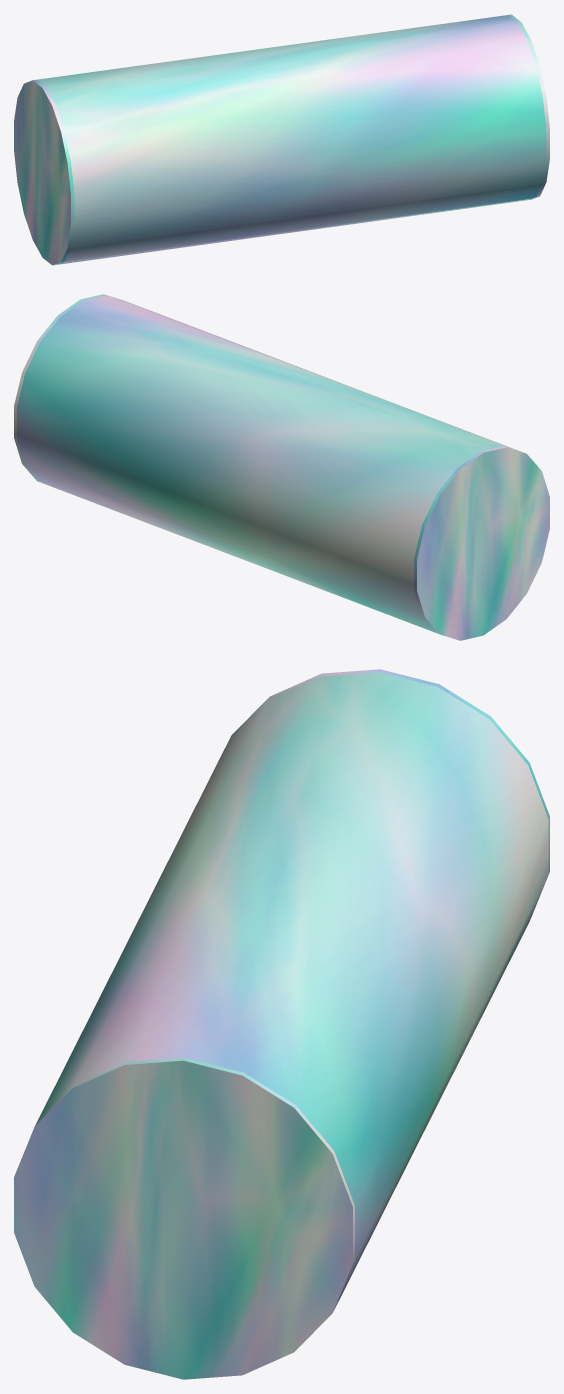
Rendered from Prim_08.gltf.
3 renders of one model, top to bottom at view 1: azimuth 30°, elevation 25°; view 2: azimuth 150°, elevation 25°; view 3: azimuth 270°, elevation 25°, orthographic. The views are drawn at different scales.
Parts seen in each view (by area): view 1: 004; view 2: 004; view 3: 004.
Part boxes in pixels (x1,y1,x2,y2): 004: (14, 14, 549, 265); 004: (14, 294, 549, 640); 004: (14, 669, 549, 1379).
Size of the model in its own units: 102 by 35.82 by 54.54.
Materials: 1 (1 with a texture image).
